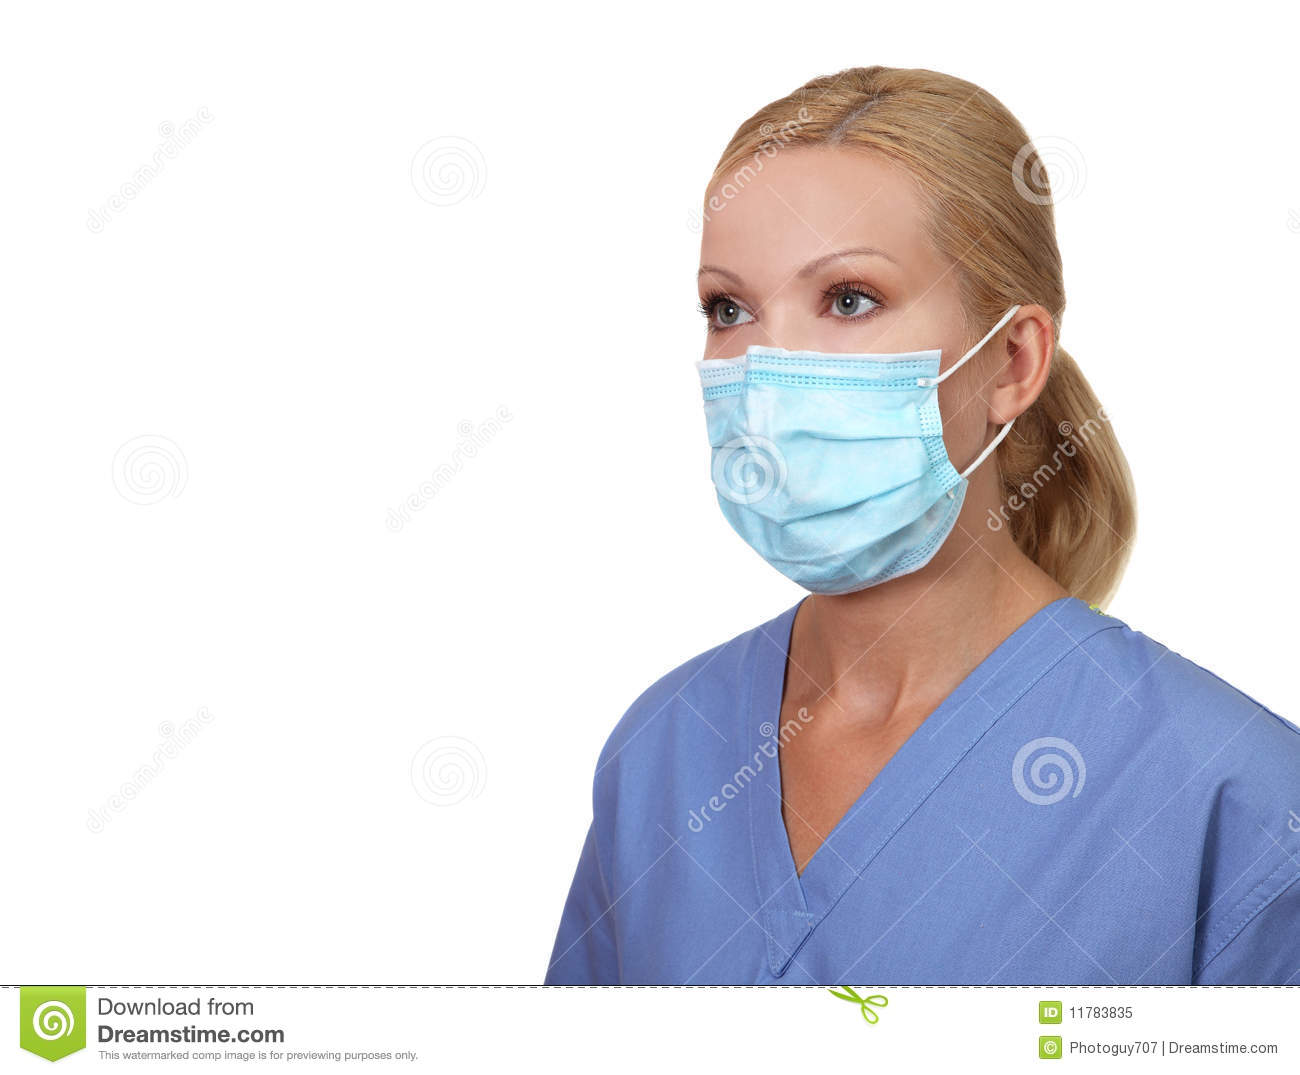mask: (701, 341, 972, 596)
